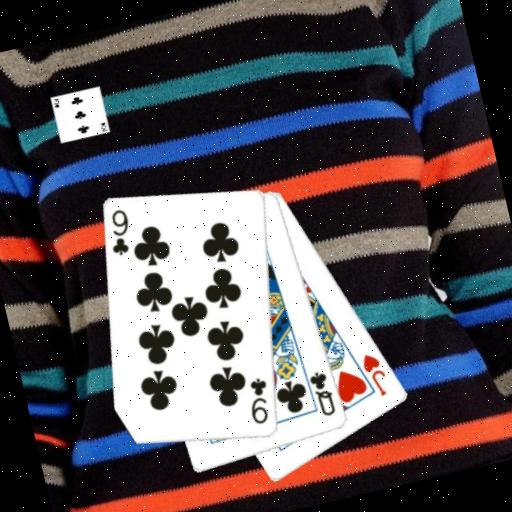9C: (100, 205, 138, 260), (241, 373, 278, 428)
JH: (357, 348, 392, 401)
QC: (305, 366, 339, 420)
